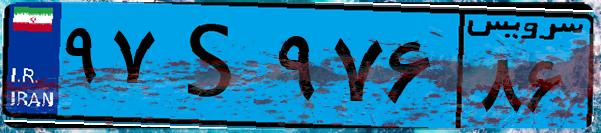6: (385, 28, 445, 110), (525, 38, 570, 115)
7: (330, 28, 385, 110), (110, 28, 158, 98)
8: (475, 38, 525, 113)
9: (270, 28, 330, 110), (57, 26, 110, 100)
S: (158, 12, 270, 120)
